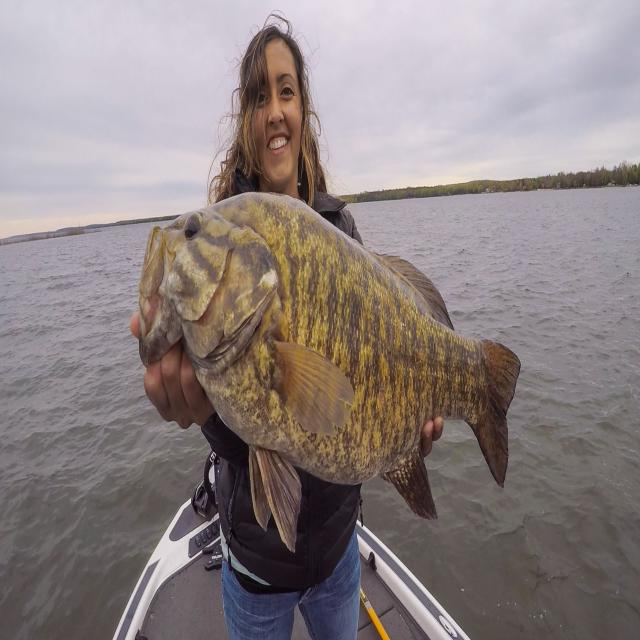Bass - Smallmouth: (139, 193, 520, 549)
